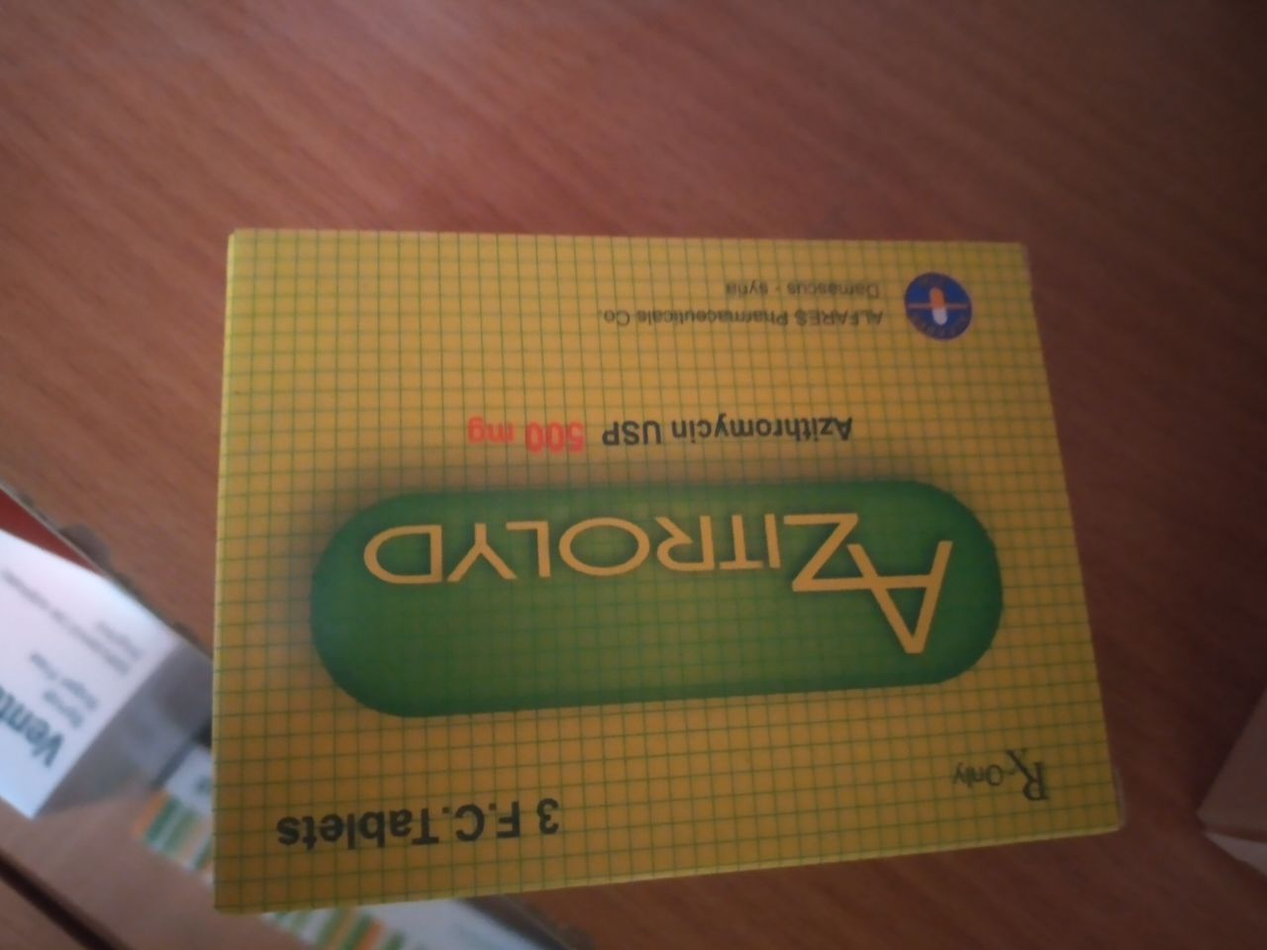Medicine: (203, 210, 1143, 913)
